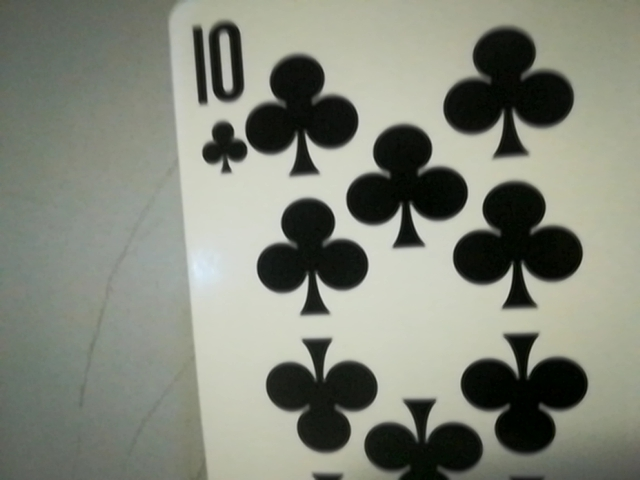mh 10: (179, 4, 252, 188)
